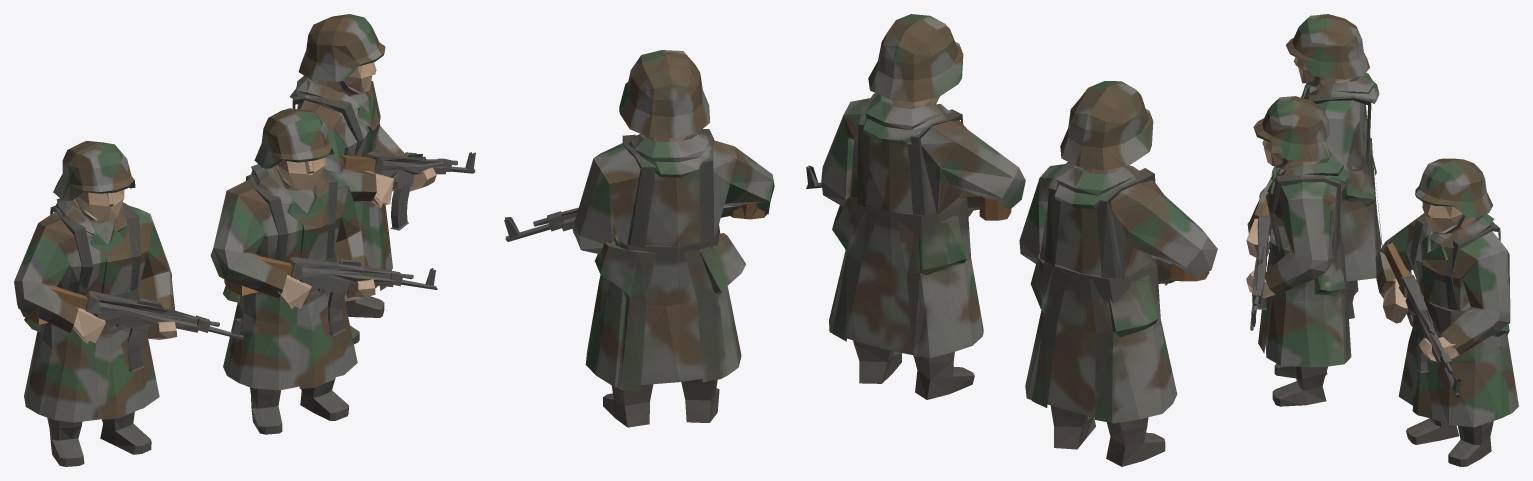
Rendered from bulge_german_airborne.glb.
3 views of the same model, side by side, from view 1: azimuth 30°, elevation 25°; view 2: azimuth 150°, elevation 25°; view 3: azimuth 270°, elevation 25° (orthographic). The views are drawn at different scales.
Parts seen in each view (by area): view 1: figura; view 2: figura; view 3: figura.
Part boxes in pixels (x1=…): figura: x1=14, y1=14, x2=475, y2=466; figura: x1=504, y1=14, x2=1217, y2=466; figura: x1=1246, y1=14, x2=1518, y2=466.
Bounding box in the file's own units: 1.39 × 0.7701 × 0.665.
1 material, 1 textured.
